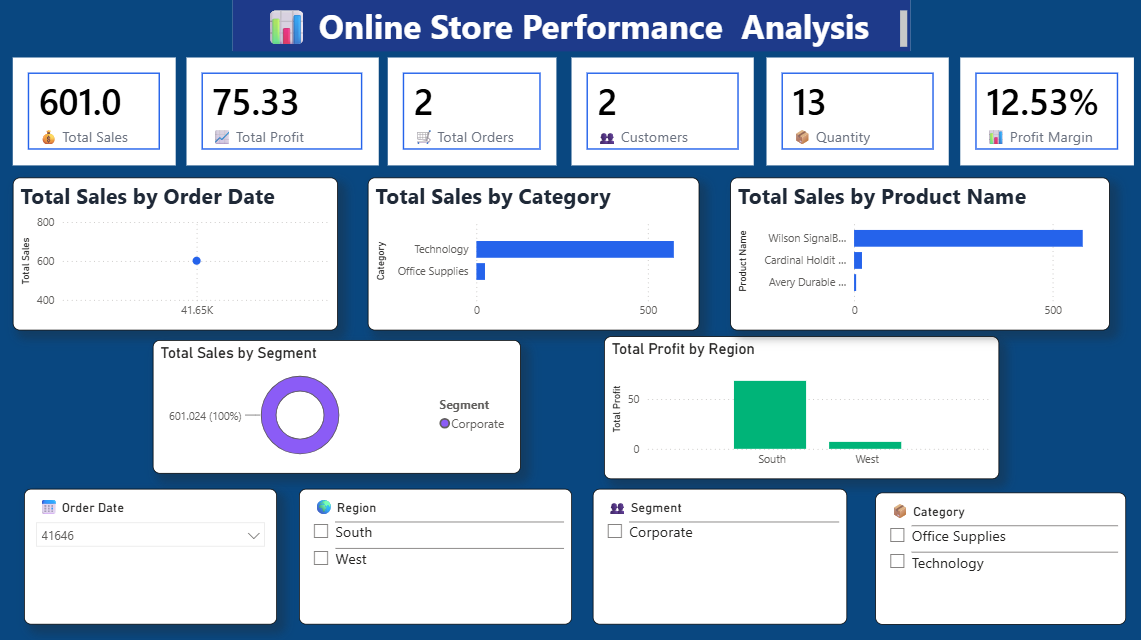

The page's visual inventory and layout, read from the dashboard file:
{"tool":"powerbi","page":{"name":"Dashboard","canvas":[1280,720],"ordinal":0},"visuals":[{"type":"cardVisual","fields":{"Data":["Fact_Sales.Total Sales"]},"box":[15.1,64.4,182.1,120.5],"z":0},{"type":"lineChart","fields":{"Category":["Fact_Sales.Order Date"],"Y":["Fact_Sales.Total Sales"]},"box":[15.1,198.5,364.2,171.2],"z":1000},{"type":"clusteredBarChart","fields":{"Category":["Fact_Sales.Category"],"Y":["Fact_Sales.Total Sales"]},"box":[412.2,198.5,371.1,171.2],"z":2000},{"type":"clusteredColumnChart","fields":{"Category":["Fact_Sales.Region"],"Y":["Fact_Sales.Total Profit"]},"box":[677.8,376.6,442.3,160.2],"z":3000},{"type":"donutChart","fields":{"Category":["Fact_Sales.Segment"],"Y":["Fact_Sales.Total Sales"]},"box":[172.5,380.7,412.2,149.3],"z":4000},{"type":"clusteredBarChart","fields":{"Category":["Fact_Sales.Product Name"],"Y":["Fact_Sales.Total Sales"]},"box":[818.8,198.5,424.5,171.2],"z":5000},{"type":"slicer","fields":{"Values":["Fact_Sales.Region"]},"box":[335.5,547.7,305.3,152],"z":6000},{"type":"slicer","fields":{"Values":["Fact_Sales.Category"]},"box":[980.4,551.8,280.7,147.9],"z":7000},{"type":"slicer","fields":{"Values":["Fact_Sales.Segment"]},"box":[664.1,547.7,284.8,152],"z":8000},{"type":"cardVisual","fields":{"Data":["Fact_Sales.Total Profit"]},"box":[209.5,64.4,215,120.5],"z":9000},{"type":"cardVisual","fields":{"Data":["Fact_Sales.Total Orders"]},"box":[435.4,64.4,189,120.5],"z":10000},{"type":"cardVisual","fields":{"Data":["Fact_Sales.Total Customers"]},"box":[640.8,64.4,204,120.5],"z":11000},{"type":"cardVisual","fields":{"Data":["Fact_Sales.Total Quantity"]},"box":[858.5,64.4,204,120.5],"z":12000},{"type":"cardVisual","fields":{"Data":["Fact_Sales.Profit Margin %"]},"box":[1076.3,64.4,194.4,120.5],"z":13000},{"type":"slicer","fields":{"Values":["Fact_Sales.Order Date"]},"box":[27.4,547.7,283.4,152],"z":14000},{"type":"textbox","box":[261.4,0,758.6,57.1],"z":15000},{"type":"shape","box":[261.5,0,758.6,57.5],"z":16000},{"type":"textbox","box":[258,2.7,764.1,54.8],"z":18000}]}

Visuals, with their boxes in screenshot pixels (x1, y1, x2, y2), scaled from the page's 1280x720 canvas onto the 1141x640 screenshot:
cardVisual - Fact_Sales.Total Sales: locate(13, 57, 176, 164)
lineChart - Fact_Sales.Order Date x Fact_Sales.Total Sales: locate(13, 176, 338, 329)
clusteredBarChart - Fact_Sales.Category x Fact_Sales.Total Sales: locate(367, 176, 698, 329)
clusteredColumnChart - Fact_Sales.Region x Fact_Sales.Total Profit: locate(604, 335, 998, 477)
donutChart - Fact_Sales.Segment x Fact_Sales.Total Sales: locate(154, 338, 521, 471)
clusteredBarChart - Fact_Sales.Product Name x Fact_Sales.Total Sales: locate(730, 176, 1108, 329)
slicer - Fact_Sales.Region: locate(299, 487, 571, 622)
slicer - Fact_Sales.Category: locate(874, 490, 1124, 622)
slicer - Fact_Sales.Segment: locate(592, 487, 846, 622)
cardVisual - Fact_Sales.Total Profit: locate(187, 57, 378, 164)
cardVisual - Fact_Sales.Total Orders: locate(388, 57, 557, 164)
cardVisual - Fact_Sales.Total Customers: locate(571, 57, 753, 164)
cardVisual - Fact_Sales.Total Quantity: locate(765, 57, 947, 164)
cardVisual - Fact_Sales.Profit Margin %: locate(959, 57, 1133, 164)
slicer - Fact_Sales.Order Date: locate(24, 487, 277, 622)
textbox: locate(233, 0, 909, 51)
shape: locate(233, 0, 909, 51)
textbox: locate(230, 2, 911, 51)
